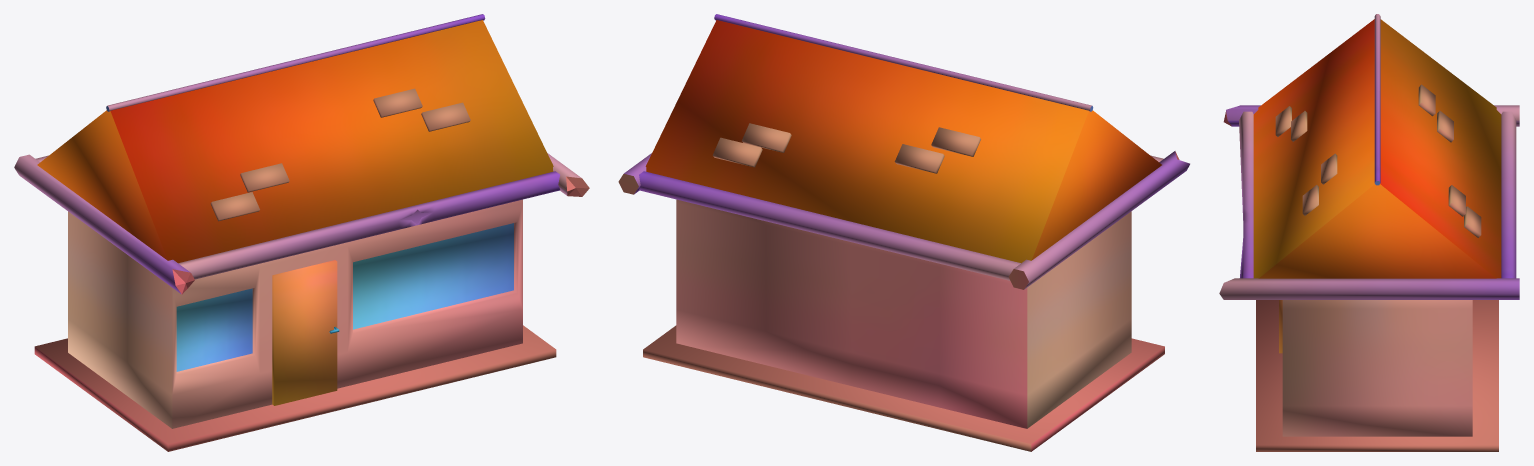
File: House3.fbx
The picture shows the model from 3 angles, left to right: view 1: azimuth 30°, elevation 25°; view 2: azimuth 150°, elevation 25°; view 3: azimuth 270°, elevation 25°; orthographic projection. The views are drawn at different scales.
Parts seen in each view (by area): view 1: House.3; view 2: House.3; view 3: House.3.
Boxes of the visible parts, x1,y1,x2,y2 form: House.3: (14, 14, 589, 451); House.3: (618, 14, 1189, 451); House.3: (1219, 14, 1519, 451).
Size of the model in its own units: 720 by 495 by 501.
1 material, 1 textured.
